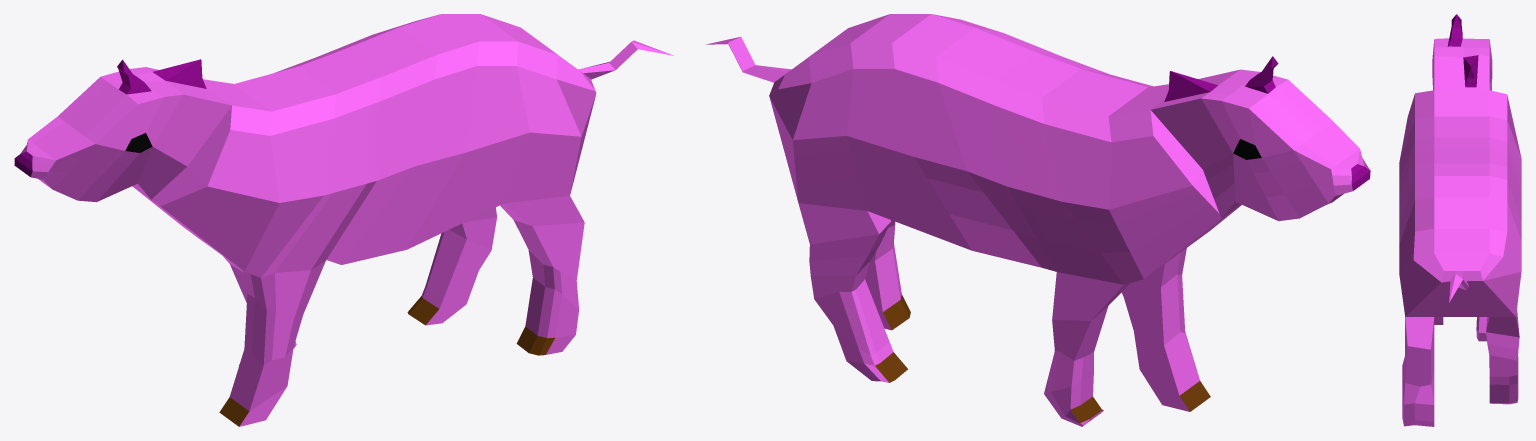
Rendered from pig.glb.
3 renders of one model, left to right at view 1: azimuth 30°, elevation 25°; view 2: azimuth 150°, elevation 25°; view 3: azimuth 270°, elevation 25°, orthographic. The views are drawn at different scales.
Visible parts, largest first — view 1: Plane; view 2: Plane; view 3: Plane.
Part boxes in pixels (x1,y1,x2,y2): Plane: (14,14,673,426); Plane: (706,14,1370,426); Plane: (1399,14,1521,426).
Bounding box in the file's own units: 6.84 × 3.76 × 1.54.
